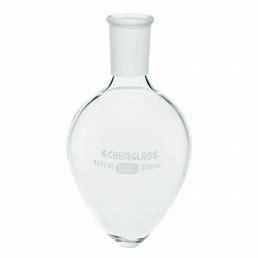Pear shaped flask: (65, 7, 194, 248)
